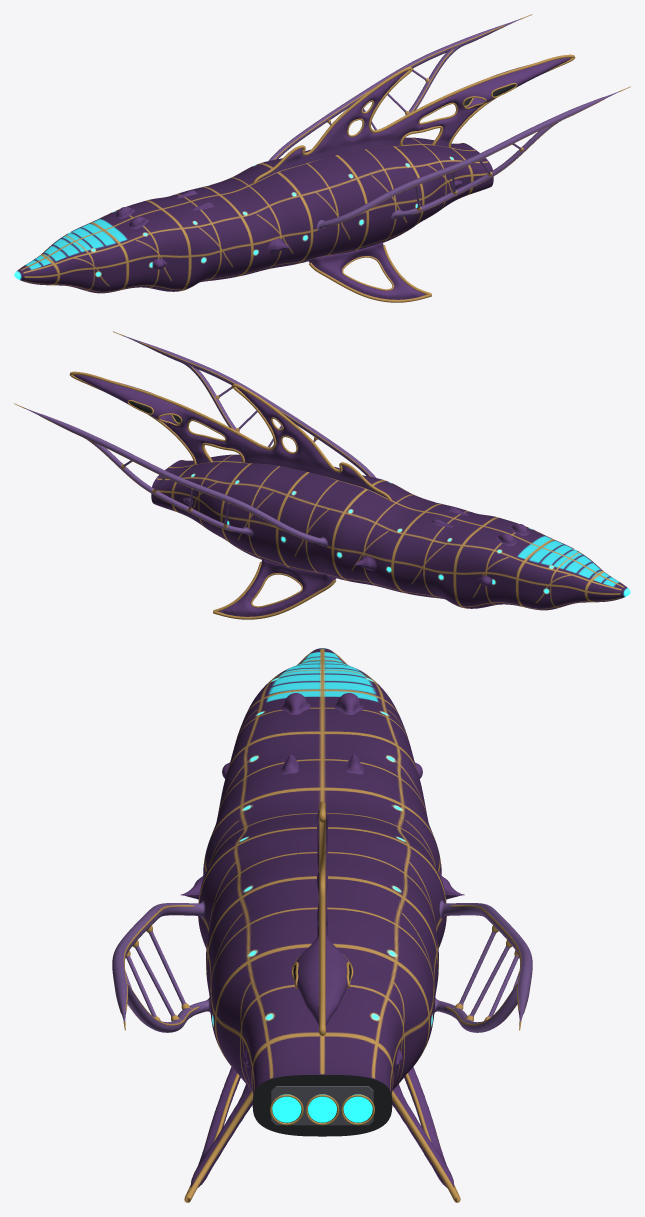
File: model_v42_web.glb
The picture shows the model from 3 angles, top to bottom: view 1: azimuth 30°, elevation 25°; view 2: azimuth 150°, elevation 25°; view 3: azimuth 270°, elevation 25°; orthographic projection. The views are drawn at different scales.
Parts seen in each view (by area): view 1: EXT__EXT_Hull, EXT__EXT_Blade__NC, EXT__EXT_Copper__NC, EXT__EXT_Wing, EXT__EXT_Blade, EXT__EXT_Wing__NC, EXT__EXT_Copper; view 2: EXT__EXT_Hull, EXT__EXT_Blade__NC, EXT__EXT_Copper__NC, EXT__EXT_Wing__NC, EXT__EXT_Wing, EXT__EXT_Copper; view 3: EXT__EXT_Hull, EXT__EXT_Blade__NC, EXT__EXT_Wing, EXT__EXT_Wing__NC, EXT__EXT_Copper__NC, EXT__INT_Dark, EXT__EXT_Blade, EXT__EXT_Copper, INT_S__INT_Shell, DRV__DRV_Glow__NC.
Boxes of the visible parts, <box> form: EXT__EXT_Hull: <box>14,137,493,293</box>; EXT__EXT_Blade__NC: <box>115,58,571,218</box>; EXT__EXT_Copper__NC: <box>253,14,575,183</box>; EXT__EXT_Wing: <box>316,91,619,230</box>; EXT__EXT_Blade: <box>128,180,462,299</box>; EXT__EXT_Wing__NC: <box>268,19,520,160</box>; EXT__EXT_Copper: <box>309,86,630,302</box>; EXT__EXT_Hull: <box>151,454,630,610</box>; EXT__EXT_Blade__NC: <box>73,375,516,616</box>; EXT__EXT_Copper__NC: <box>14,371,391,619</box>; EXT__EXT_Wing__NC: <box>25,408,328,547</box>; EXT__EXT_Wing: <box>124,336,376,477</box>; EXT__EXT_Copper: <box>113,331,370,476</box>; EXT__EXT_Hull: <box>198,648,446,1094</box>; EXT__EXT_Blade__NC: <box>296,693,464,1187</box>; EXT__EXT_Wing: <box>112,900,210,1032</box>; EXT__EXT_Wing__NC: <box>434,900,532,1032</box>; EXT__EXT_Copper__NC: <box>291,801,531,1202</box>; EXT__INT_Dark: <box>252,1075,392,1136</box>; EXT__EXT_Blade: <box>181,693,310,1187</box>; EXT__EXT_Copper: <box>113,905,253,1202</box>; INT_S__INT_Shell: <box>271,1086,373,1125</box>; DRV__DRV_Glow__NC: <box>308,1094,372,1122</box>.
Bounding box in the file's own units: 118 × 40.32 × 37.73.
Materials: 27 (1 with a texture image).
